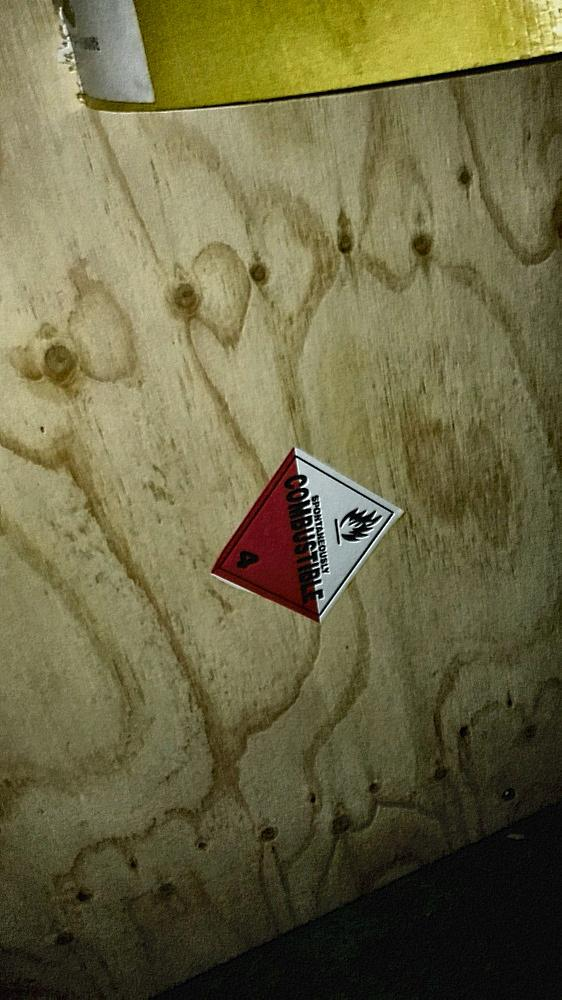spontaneously-combustible: (210, 447, 405, 625)
